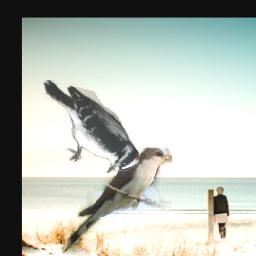Cuckoo: (62, 149, 172, 255)
Woodpecker: (44, 81, 139, 174)
